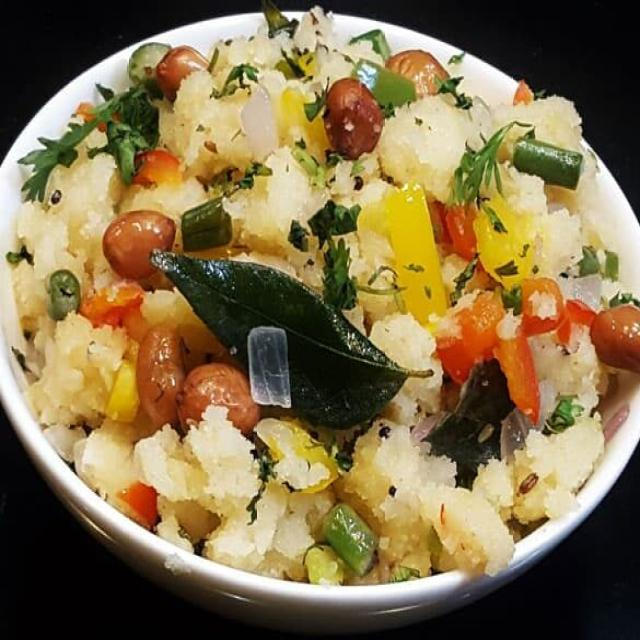UPMA: (0, 4, 630, 577)
